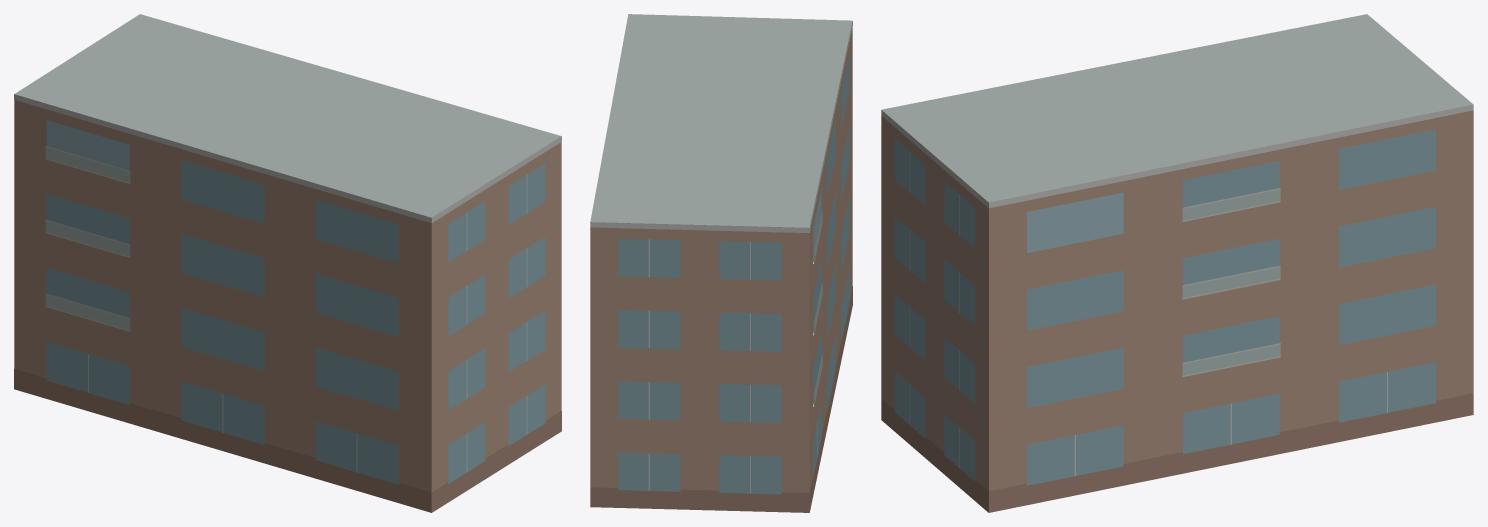
Rendered from survey-upis-32742703.glb.
The picture shows the model from 3 angles, left to right: view 1: azimuth 30°, elevation 25°; view 2: azimuth 150°, elevation 25°; view 3: azimuth 270°, elevation 25°; orthographic projection. The views are drawn at different scales.
Visible parts, largest first — view 1: survey-upis-32742703.tmp; view 2: survey-upis-32742703.tmp; view 3: survey-upis-32742703.tmp.
Boxes of the visible parts, left/top/right/bottom form: survey-upis-32742703.tmp: left=14, top=14, right=561, bottom=512; survey-upis-32742703.tmp: left=590, top=14, right=852, bottom=512; survey-upis-32742703.tmp: left=881, top=14, right=1473, bottom=512.
Size of the model in its own units: 17.05 by 13.07 by 22.63.
